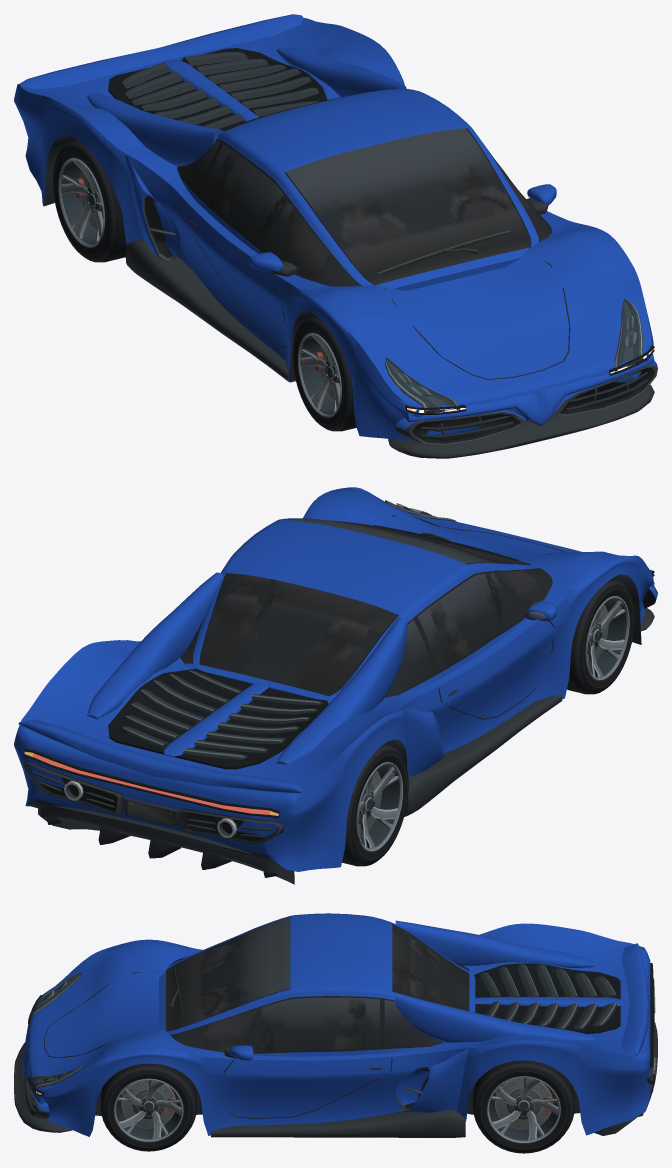
The model's file is supercar_real.glb.
The picture shows the model from 3 angles, top to bottom: view 1: azimuth 30°, elevation 25°; view 2: azimuth 150°, elevation 25°; view 3: azimuth 270°, elevation 25°; orthographic projection. The views are drawn at different scales.
Parts seen in each view (by area): view 1: body, wheelRR, wheelFR; view 2: body, wheelRR, wheelFR, lampRear; view 3: body, wheelRL, wheelFL.
Part boxes in pixels (box(x1,y1,x2,y2)): body: box(14, 14, 657, 458); wheelRR: box(53, 139, 126, 262); wheelFR: box(292, 315, 356, 431); body: box(14, 487, 657, 884); wheelRR: box(342, 743, 408, 866); wheelFR: box(567, 578, 634, 694); lampRear: box(24, 751, 278, 815); body: box(14, 913, 657, 1137); wheelRL: box(473, 1060, 574, 1153); wheelFL: box(100, 1063, 196, 1151).
Bounding box in the file's own units: 2 × 1.18 × 4.55.
